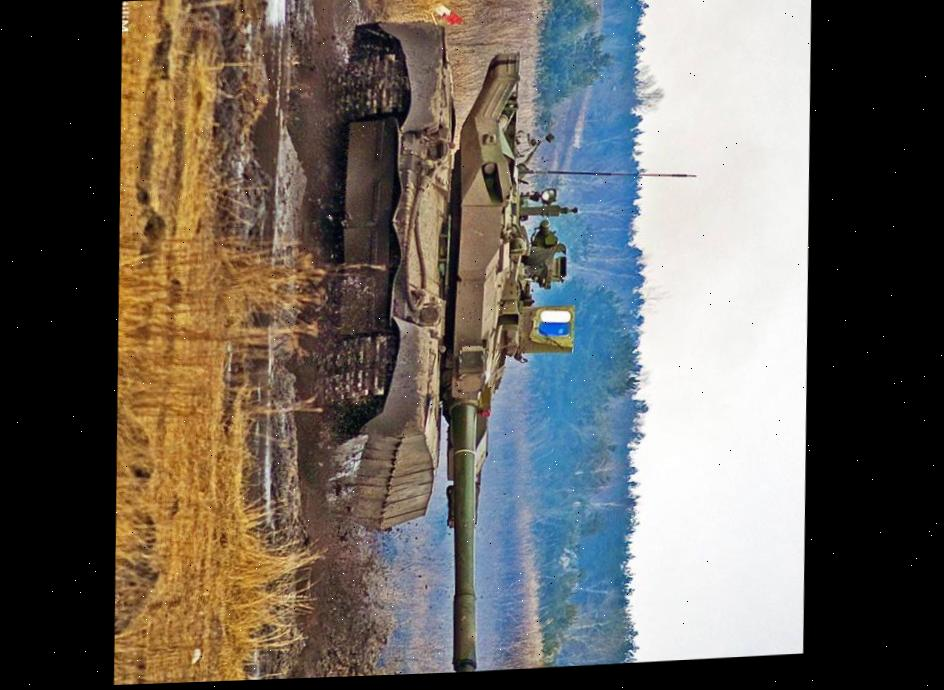tank: (296, 9, 589, 678)
